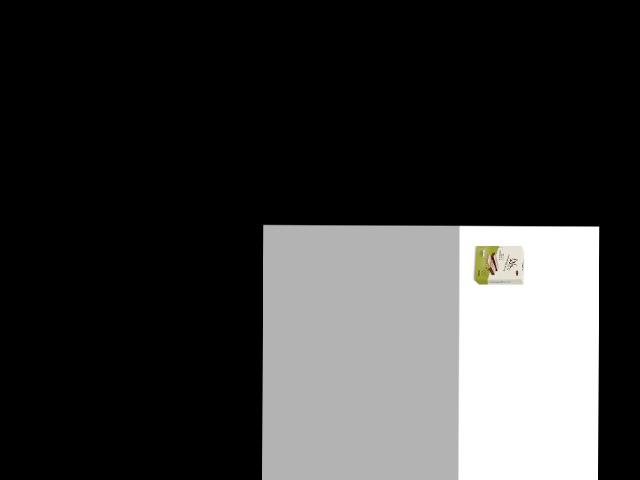chocolate: (472, 244, 524, 287)
